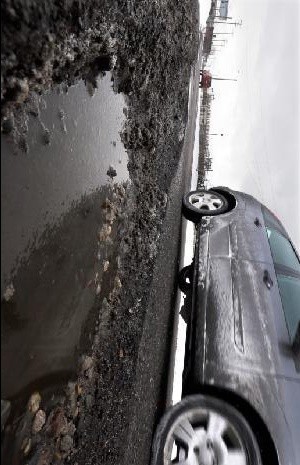pothole: (2, 0, 196, 464)
